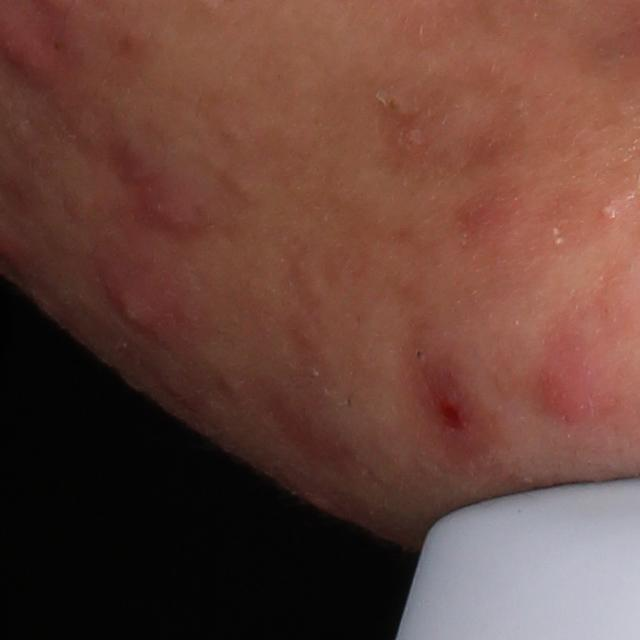comedo: (230, 175, 256, 198)
papule: (112, 122, 228, 240), (88, 251, 194, 349), (527, 331, 590, 435), (421, 367, 475, 444)
